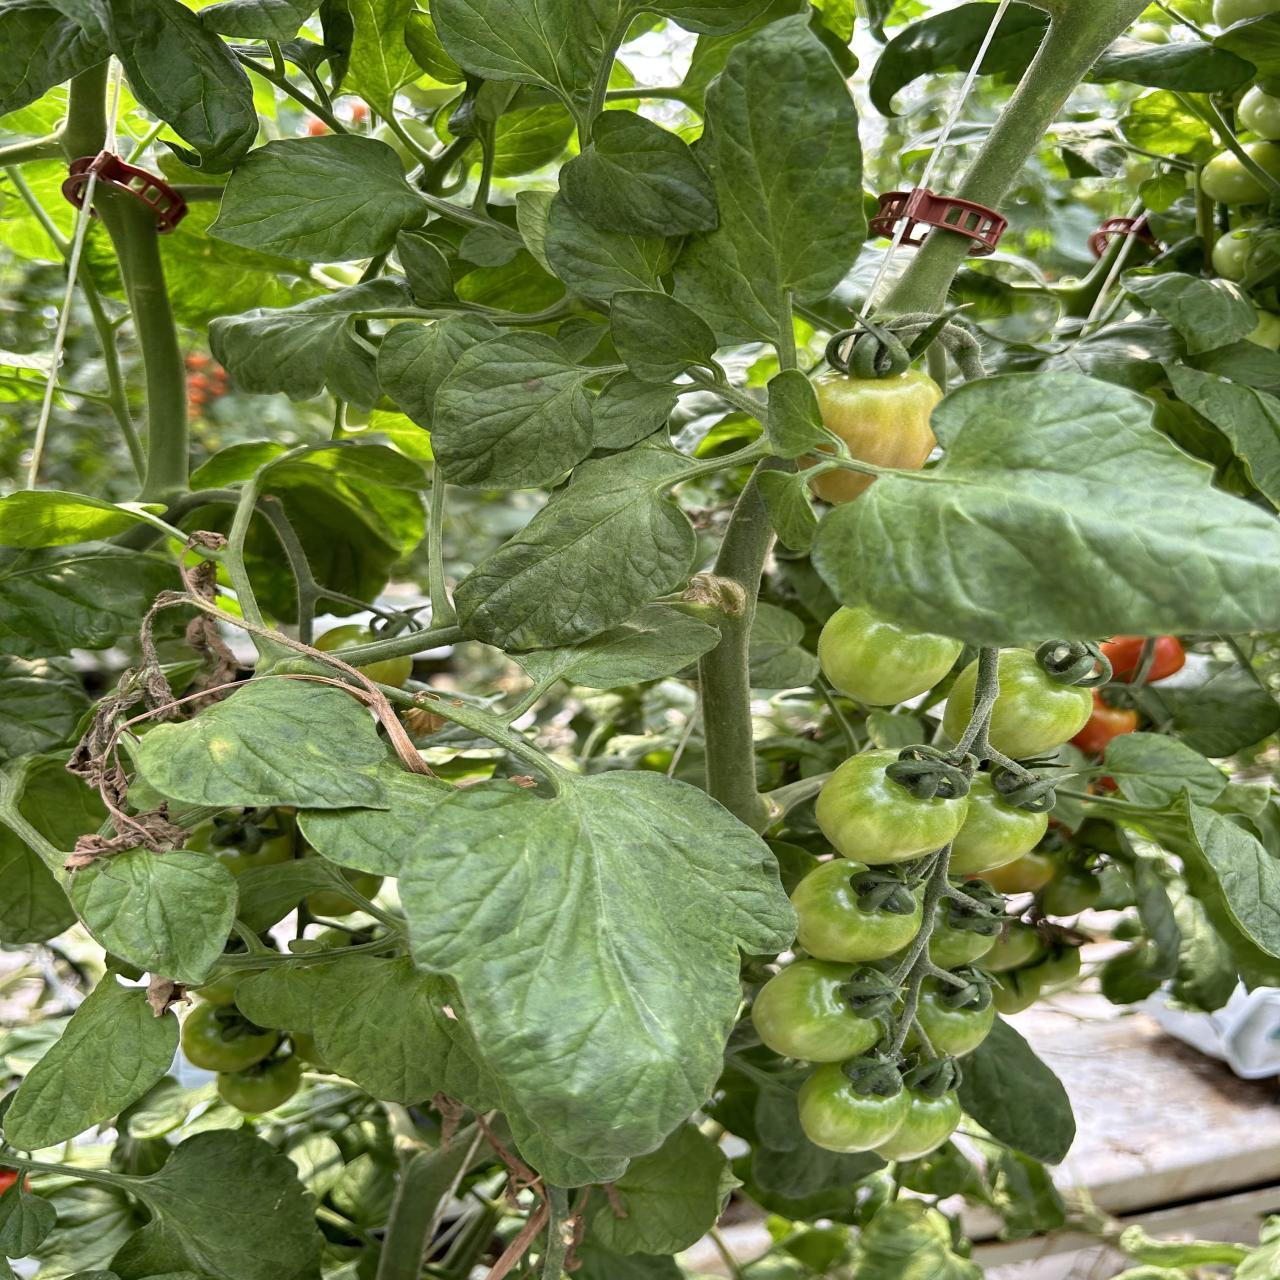Hoja: (399, 771, 796, 1183), (813, 373, 1280, 646), (673, 19, 864, 368), (456, 433, 699, 651), (137, 676, 393, 809), (116, 1130, 325, 1280), (5, 973, 178, 1150), (433, 331, 619, 489), (209, 135, 427, 261), (68, 849, 238, 981), (560, 111, 717, 237), (544, 193, 685, 305)
Pedunculo: (955, 0, 1149, 209), (681, 471, 774, 832), (377, 1122, 479, 1280), (879, 233, 964, 312)
Tomate: (816, 749, 968, 864), (818, 607, 964, 706), (751, 958, 883, 1062), (811, 369, 942, 470), (792, 858, 920, 961), (990, 648, 1092, 760), (799, 1062, 911, 1152), (949, 774, 1048, 876), (182, 1001, 279, 1071), (915, 979, 994, 1056), (879, 1090, 961, 1162), (217, 1054, 301, 1114), (944, 661, 975, 740)
Tomate Rugoso: (811, 470, 872, 505)
